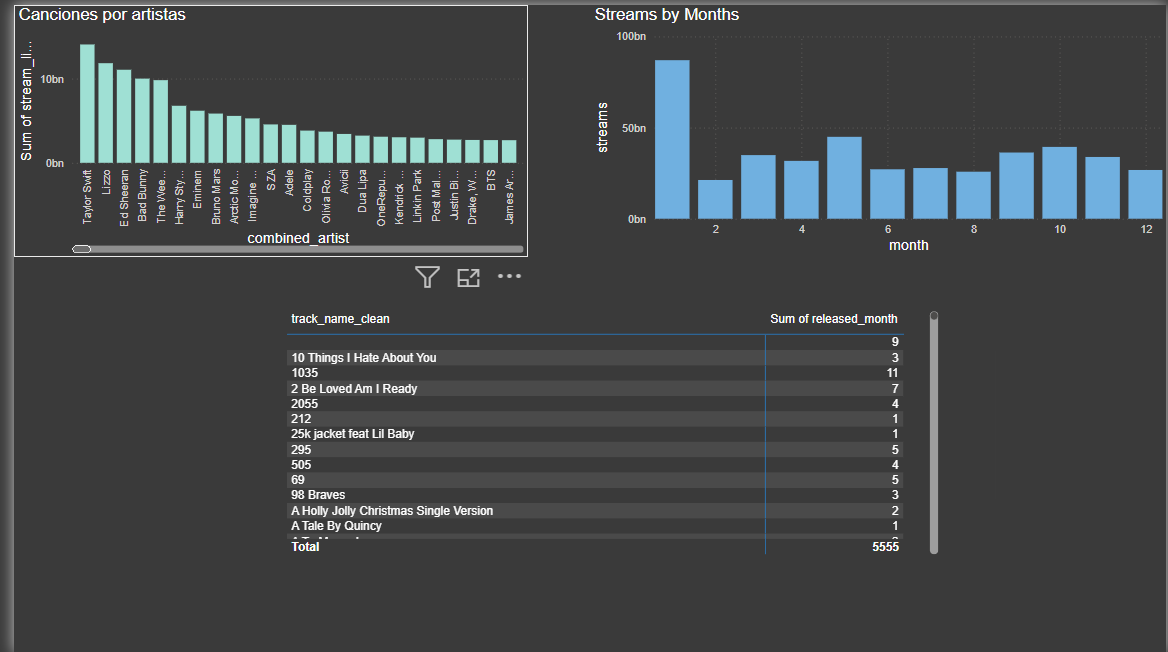

What the dashboard file says about the page in this screenshot:
{"tool":"powerbi","page":{"name":"Page 1","canvas":[1280,720],"ordinal":1},"visuals":[{"type":"lineStackedColumnComboChart","title":"Canciones por artistas","fields":{"Category":["new_table (2).combined_artist"],"Y":["new_table (2).stream_limpio"]},"box":[0,0,571.2,280],"z":0},{"type":"pivotTable","fields":{"Rows":["new_table (2).track_name_clean"],"Values":["new_table (2).released_month"]},"box":[297.9,335.2,733.5,280.1],"z":1000},{"type":"clusteredColumnChart","title":"Streams by Months","fields":{"Category":["new_table (2).released_month"],"Y":["new_table (2).stream_limpio"]},"box":[639.6,0,641.2,280.1],"z":2000}]}

Visuals, with their boxes in screenshot pixels (x1, y1, x2, y2), scaled from the page's 1280x720 canvas onto the 1168x652 screenshot:
"Canciones por artistas" lineStackedColumnComboChart: [0, 0, 521, 254]
pivotTable - new_table (2).track_name_clean x new_table (2).released_month: [272, 304, 941, 557]
"Streams by Months" clusteredColumnChart: [584, 0, 1167, 254]
